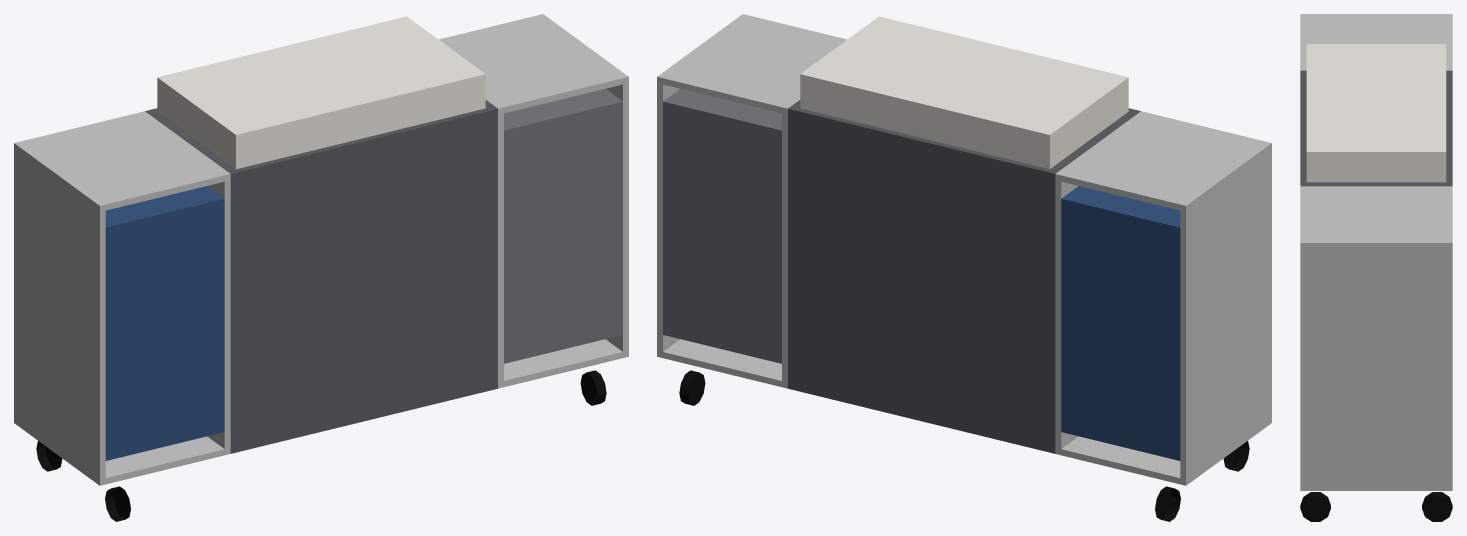
The model's file is hospitality.hotel.housekeeping_trolley.glb.
The picture shows the model from 3 angles, left to right: view 1: azimuth 30°, elevation 25°; view 2: azimuth 150°, elevation 25°; view 3: azimuth 270°, elevation 25°; orthographic projection. The views are drawn at different scales.
Parts seen in each view (by area): view 1: main__plastic_grey, main__steel_stainless, main__fabric_white, main__fabric_blue, main__fabric_grey, main__rubber; view 2: main__plastic_grey, main__steel_stainless, main__fabric_white, main__fabric_blue, main__fabric_grey, main__rubber; view 3: main__steel_stainless, main__fabric_white, main__plastic_grey, main__rubber.
Boxes of the visible parts, left/top/right/bottom form: main__plastic_grey: left=145, top=100, right=497, bottom=453; main__steel_stainless: left=14, top=14, right=628, bottom=485; main__fabric_white: left=157, top=16, right=485, bottom=169; main__fabric_blue: left=105, top=186, right=224, bottom=460; main__fabric_grey: left=504, top=89, right=622, bottom=363; main__rubber: left=36, top=370, right=606, bottom=521; main__plastic_grey: left=788, top=100, right=1140, bottom=453; main__steel_stainless: left=657, top=14, right=1271, bottom=485; main__fabric_white: left=800, top=16, right=1128, bottom=169; main__fabric_blue: left=1061, top=186, right=1180, bottom=460; main__fabric_grey: left=663, top=89, right=781, bottom=363; main__rubber: left=679, top=370, right=1249, bottom=521; main__steel_stainless: left=1300, top=14, right=1452, bottom=490; main__fabric_white: left=1306, top=44, right=1446, bottom=182; main__plastic_grey: left=1300, top=70, right=1452, bottom=186; main__rubber: left=1300, top=492, right=1452, bottom=521.
Size of the model in its own units: 1.78 by 1.16 by 0.5.
